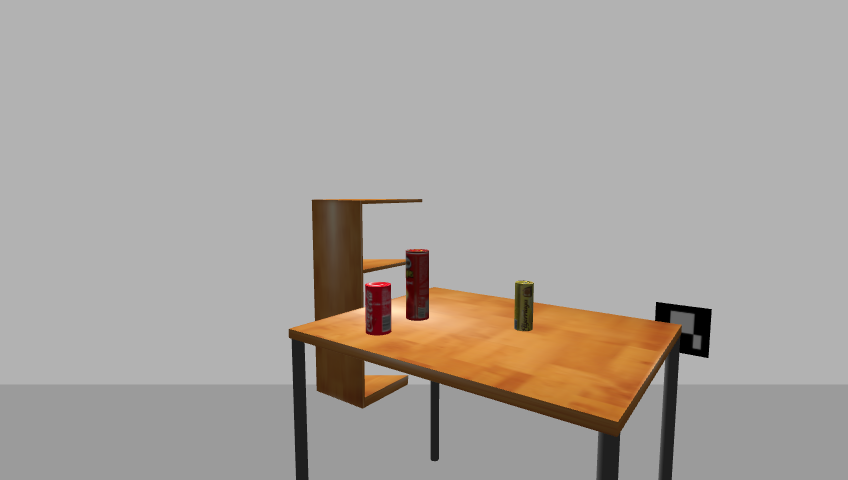aruco marker: (649, 300, 717, 360)
biscuits pack: (513, 280, 535, 333)
bookshelf: (306, 195, 425, 419)
coke can: (363, 282, 394, 336)
dinner table: (283, 287, 689, 480)
pringles can: (404, 248, 431, 323)
